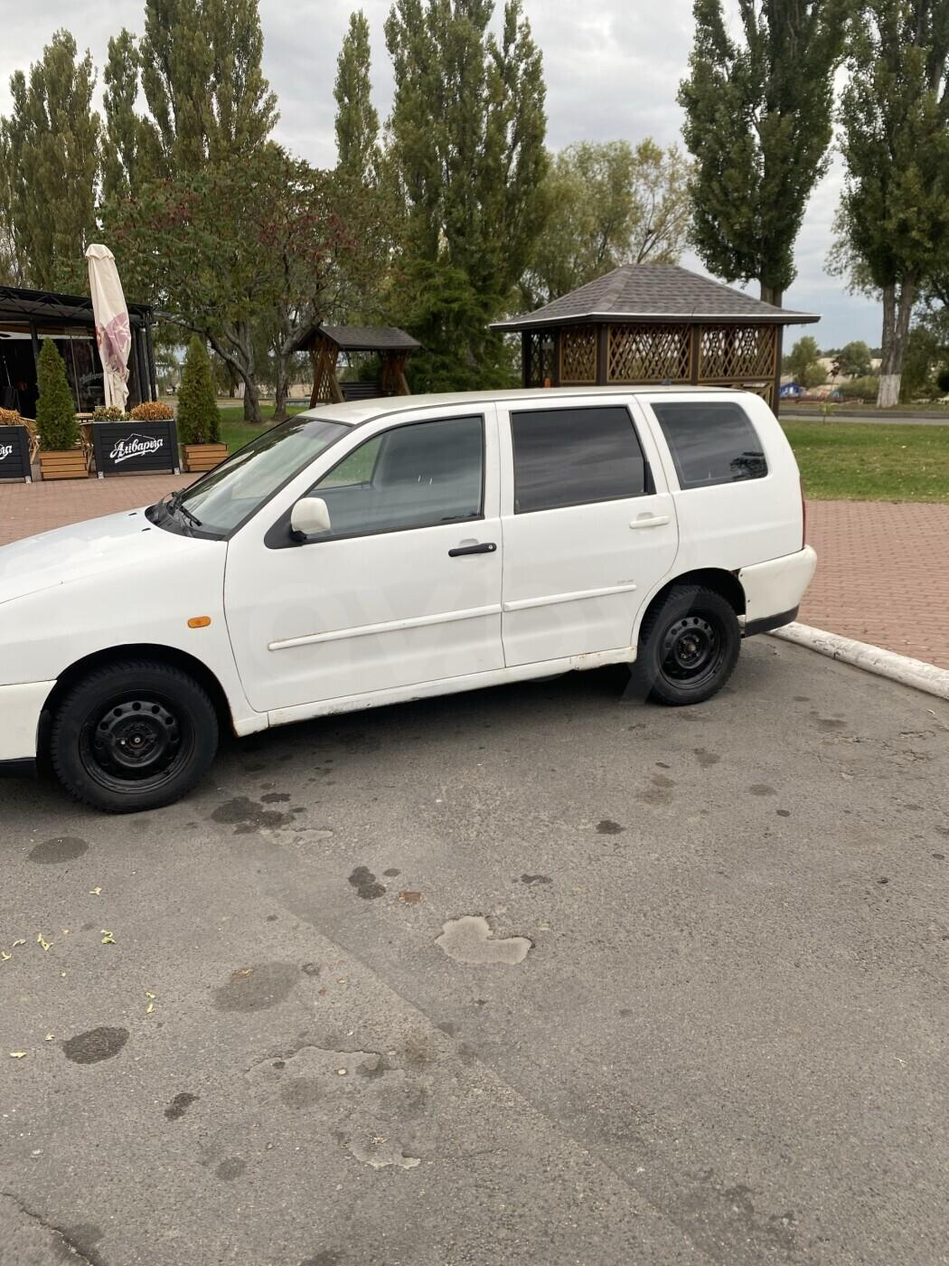Polo_1994-2002: (0, 377, 822, 812)
